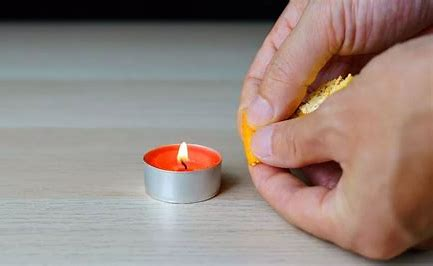Fire: (172, 134, 196, 170)
